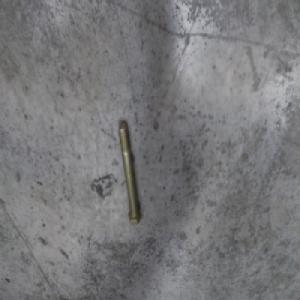Bolt: (116, 118, 139, 223)
